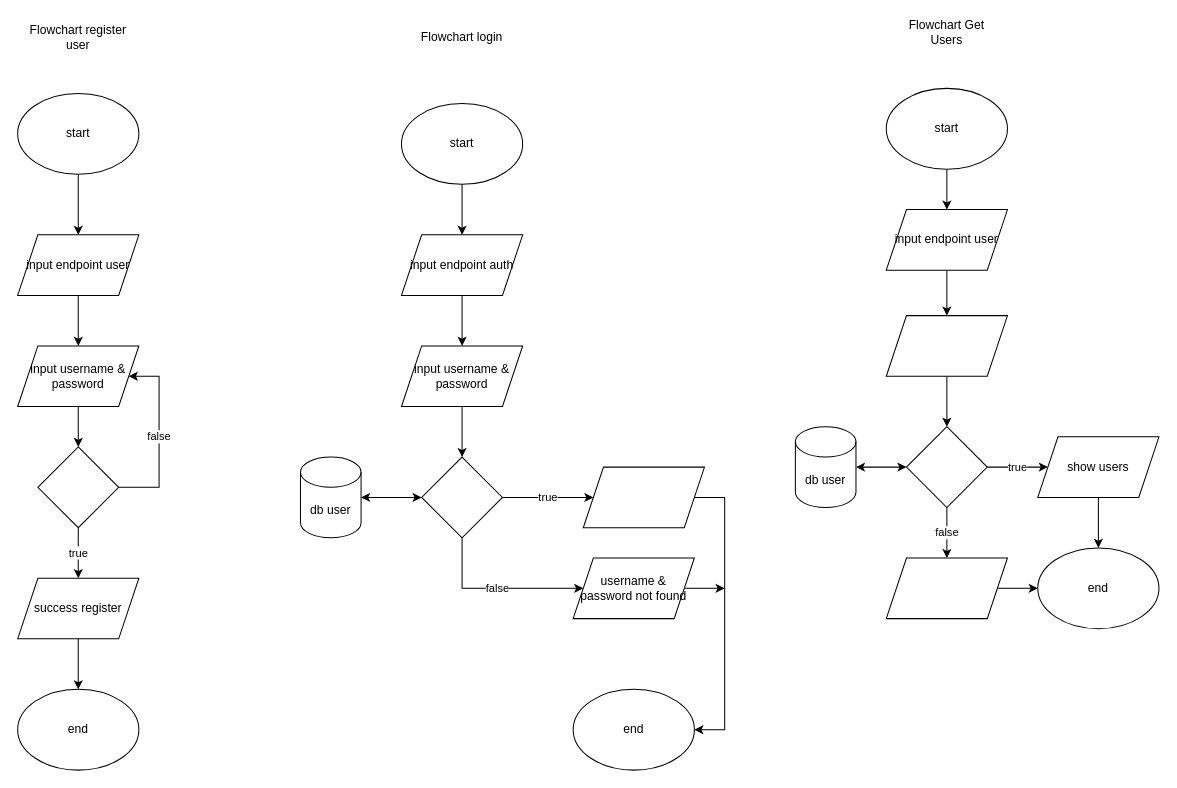
This 1177x788 diagram has some shape labels left out. Each missing label, with the box of its shape:
berhasil register: (37, 446, 119, 528)
check database: (421, 456, 502, 538)
check input again: (885, 557, 1007, 619)
input for show correct: (905, 426, 987, 508)
input wahat will show: (885, 315, 1007, 376)
success login: (582, 466, 704, 528)
